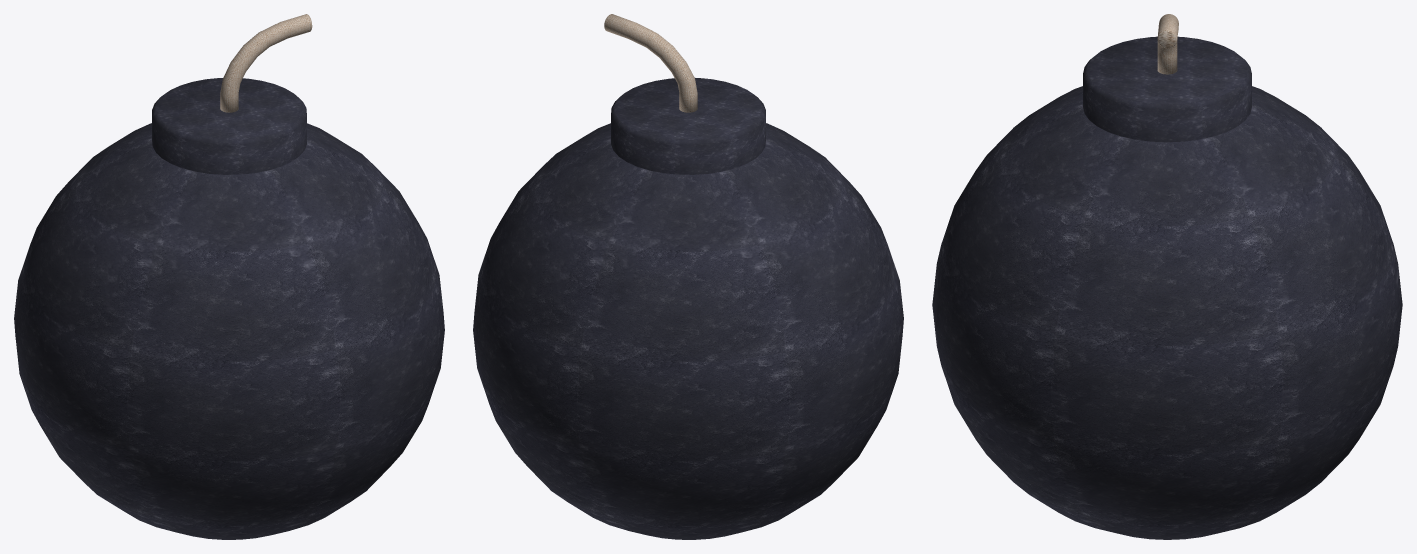
File: bomb.glb
3 renders of one model, left to right at view 1: azimuth 30°, elevation 25°; view 2: azimuth 150°, elevation 25°; view 3: azimuth 270°, elevation 25°, orthographic. The views are drawn at different scales.
Parts seen in each view (by area): view 1: Sphere; view 2: Sphere; view 3: Sphere.
Boxes of the visible parts, bbox=[...] form: Sphere: bbox=[14, 14, 444, 539]; Sphere: bbox=[473, 14, 903, 539]; Sphere: bbox=[932, 14, 1402, 539].
Size of the model in its own units: 200 by 248 by 200.
Materials: 3 (3 with a texture image).
